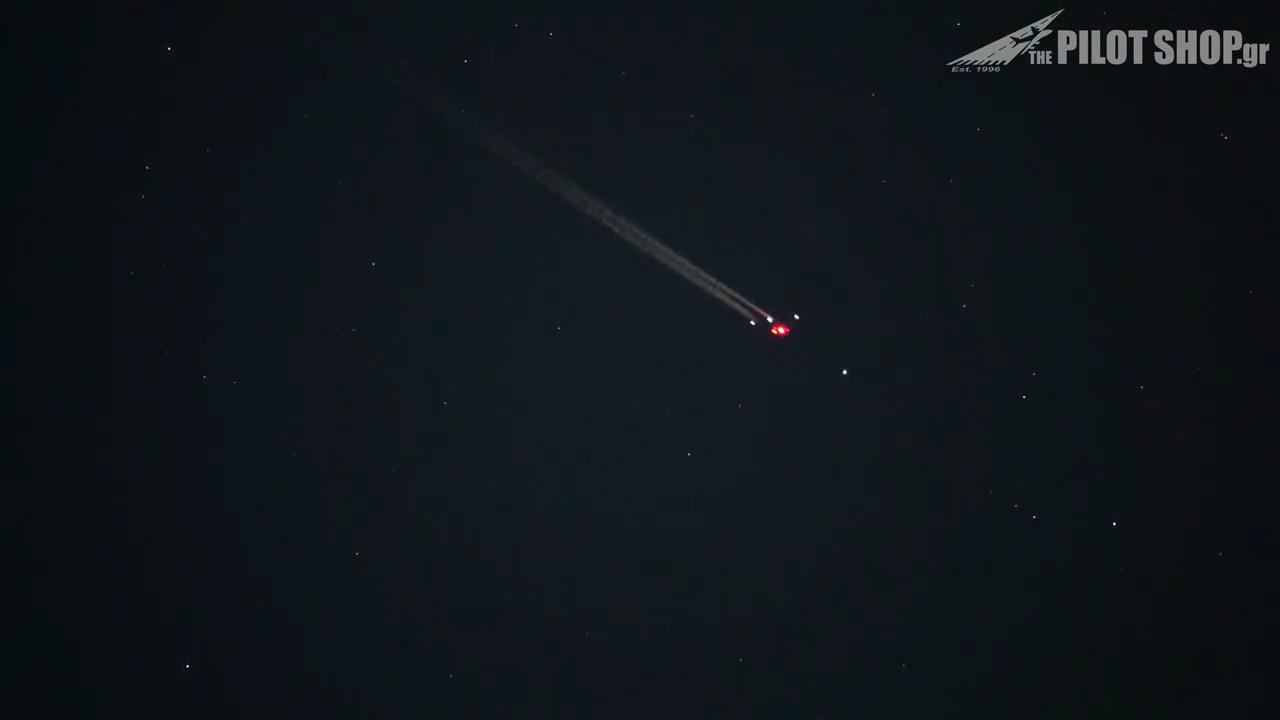Plane: (687, 259, 809, 344)
